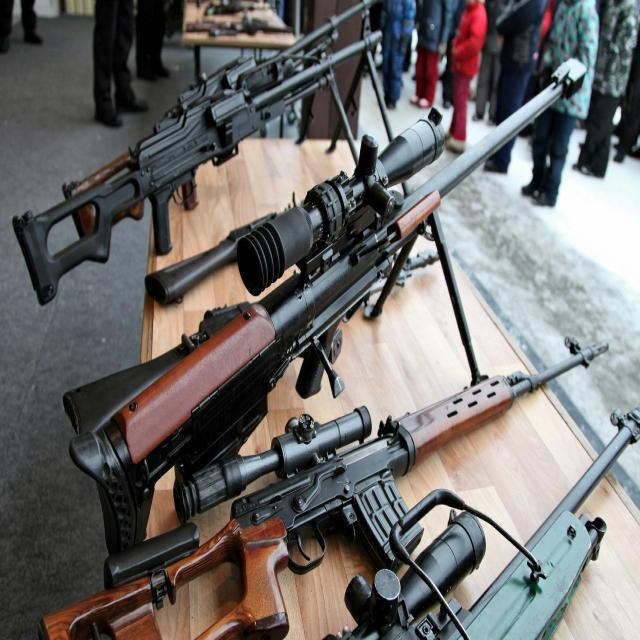firearm: (61, 56, 588, 559), (35, 332, 612, 640), (11, 26, 383, 308), (319, 404, 640, 640), (60, 0, 376, 223), (144, 213, 278, 308)
